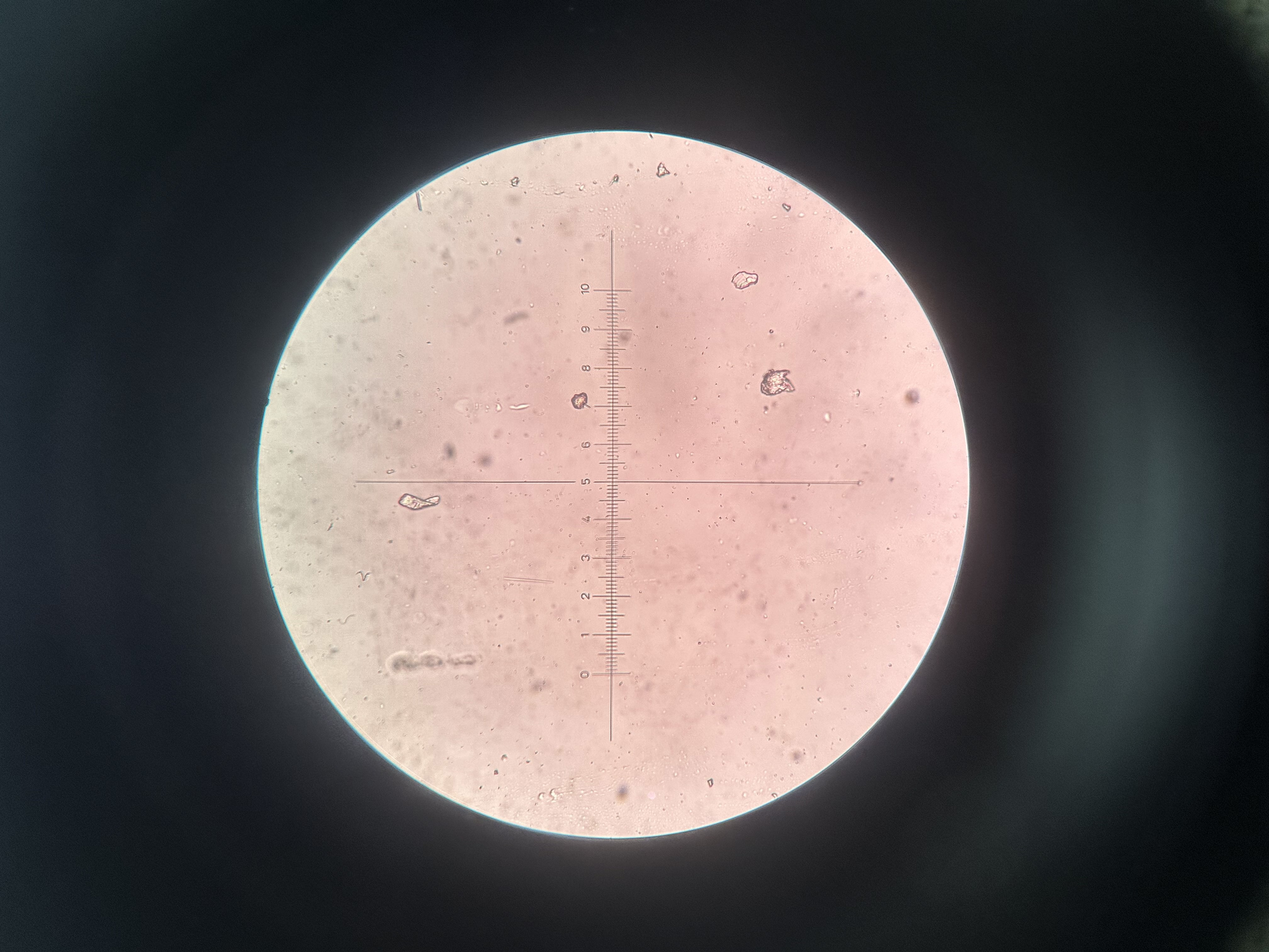microplastic: (387, 647, 487, 674), (758, 368, 799, 393), (396, 494, 443, 511), (730, 269, 760, 291), (651, 157, 675, 178), (409, 188, 429, 213), (492, 399, 532, 411), (535, 786, 563, 803), (571, 392, 589, 411), (905, 385, 919, 406), (509, 175, 519, 189), (781, 204, 792, 212)
